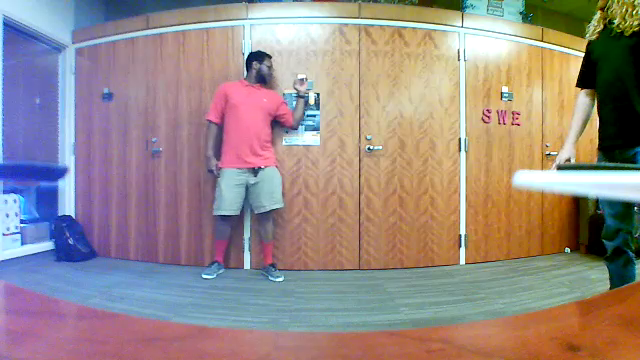up: (289, 66, 310, 101)
